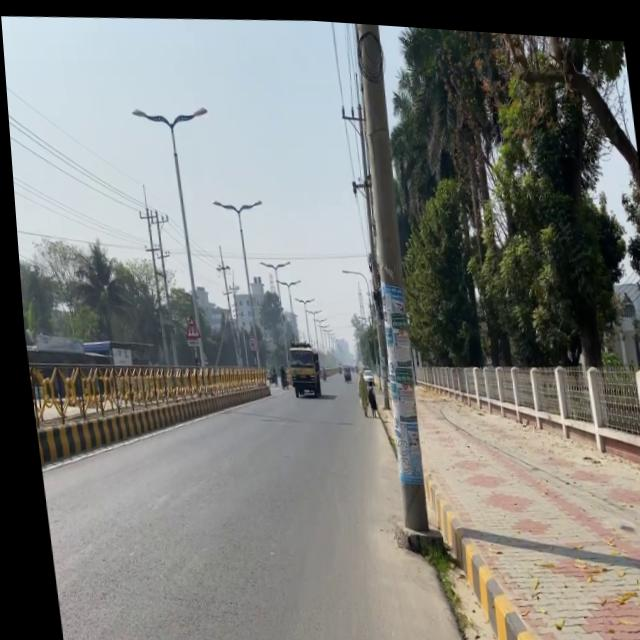Construction-barrier: (414, 460, 538, 640), (448, 526, 537, 640)
Fallen-tree: (349, 363, 374, 414), (336, 361, 346, 378)
Light-pole: (339, 18, 436, 532)
Pole: (29, 343, 263, 470)
Pothole: (404, 361, 640, 640)
Traffic-cone: (280, 335, 320, 396)
